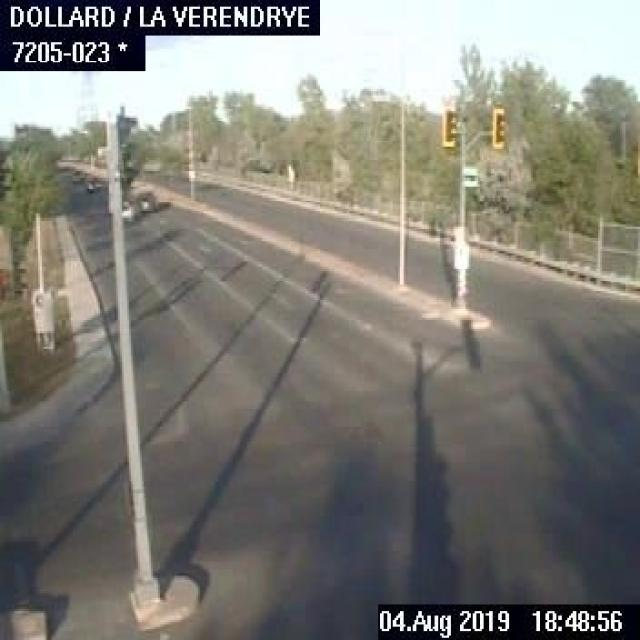vehicle: (132, 191, 158, 211), (119, 198, 134, 222), (85, 171, 100, 191), (69, 166, 84, 181)
